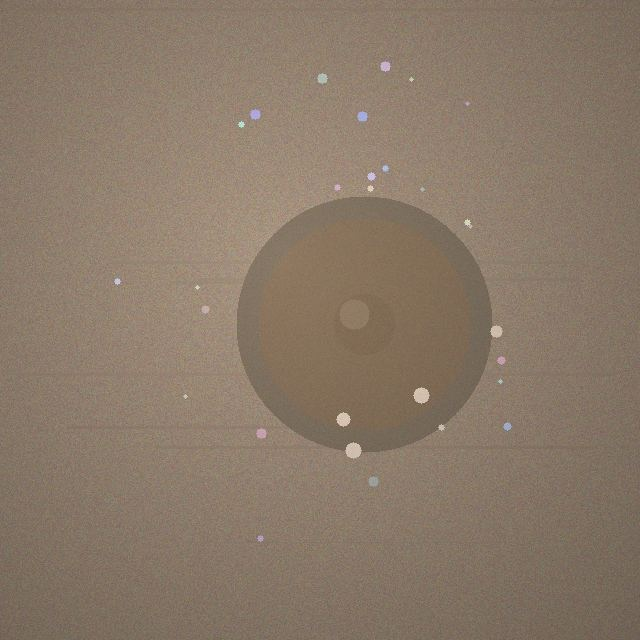overburn: (236, 196, 492, 452)
